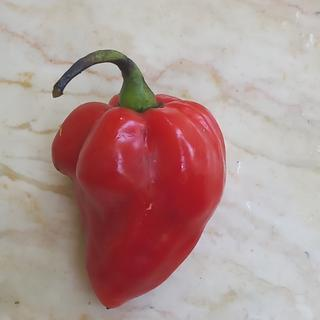Grade-A: (43, 87, 229, 310)
